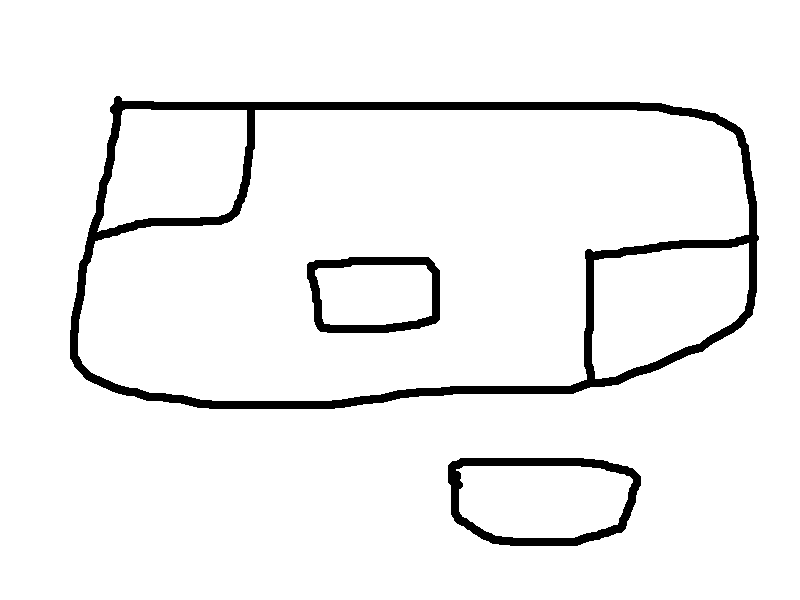dog: (441, 449, 645, 550)
rect: (65, 95, 765, 414), (577, 233, 770, 389), (85, 96, 264, 244), (307, 256, 445, 332)
